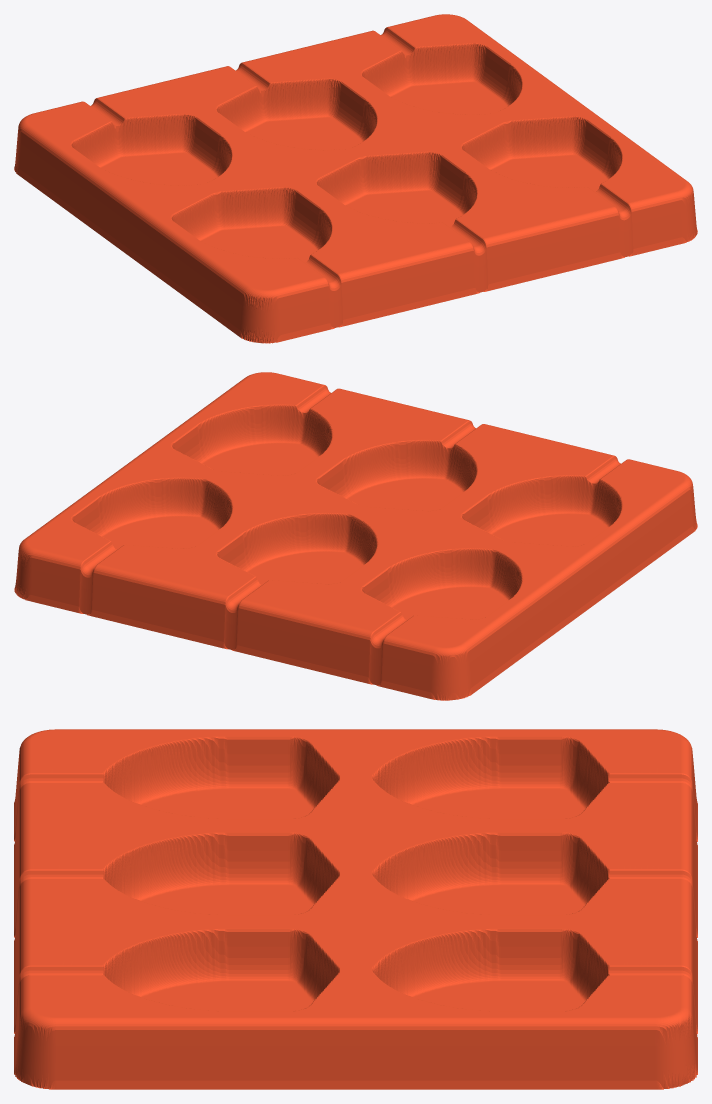
The model's file is mold.glb.
3 renders of one model, top to bottom at view 1: azimuth 30°, elevation 25°; view 2: azimuth 150°, elevation 25°; view 3: azimuth 270°, elevation 25°, orthographic. The views are drawn at different scales.
Visible parts, largest first — view 1: geometry_0; view 2: geometry_0; view 3: geometry_0.
Boxes of the visible parts, bbox=[...] form: geometry_0: bbox=[14, 14, 697, 343]; geometry_0: bbox=[14, 372, 697, 700]; geometry_0: bbox=[14, 729, 697, 1089].
Size of the model in its own units: 0.1539 by 0.0155 by 0.1477.
